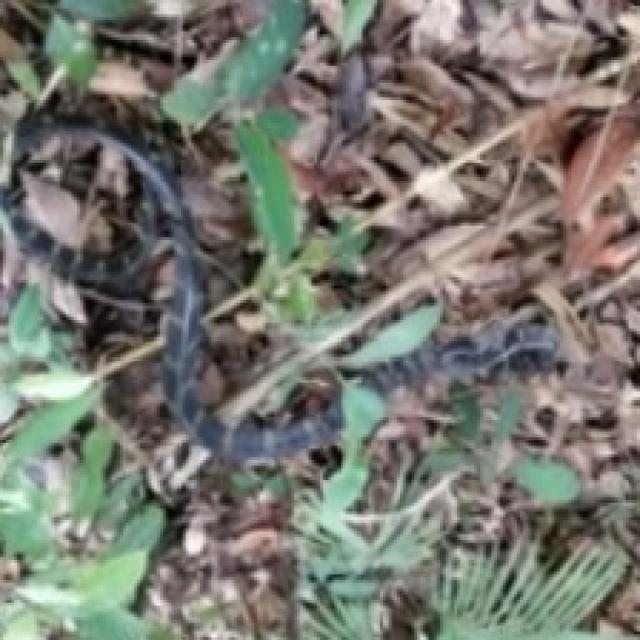dog-toothed cat snake: (0, 128, 339, 461), (366, 322, 559, 389)
